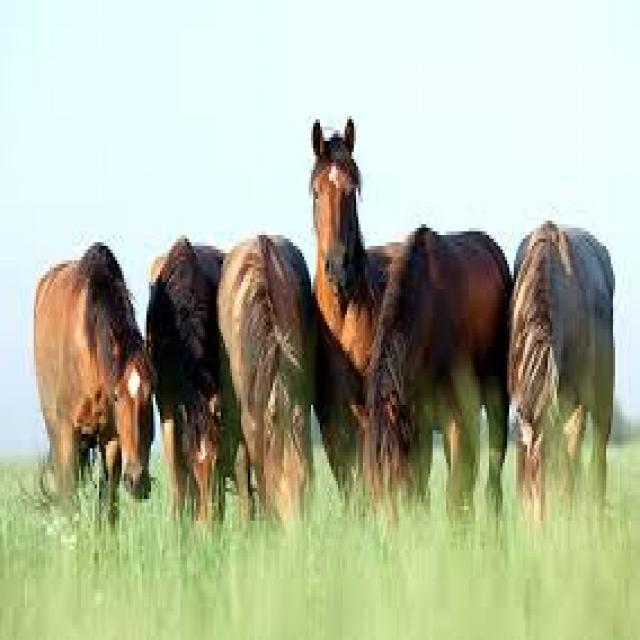horse-eating: (370, 246, 511, 556), (509, 206, 620, 581), (152, 241, 238, 588), (240, 233, 316, 577)
horse-standing: (300, 109, 396, 532), (32, 236, 162, 533)
